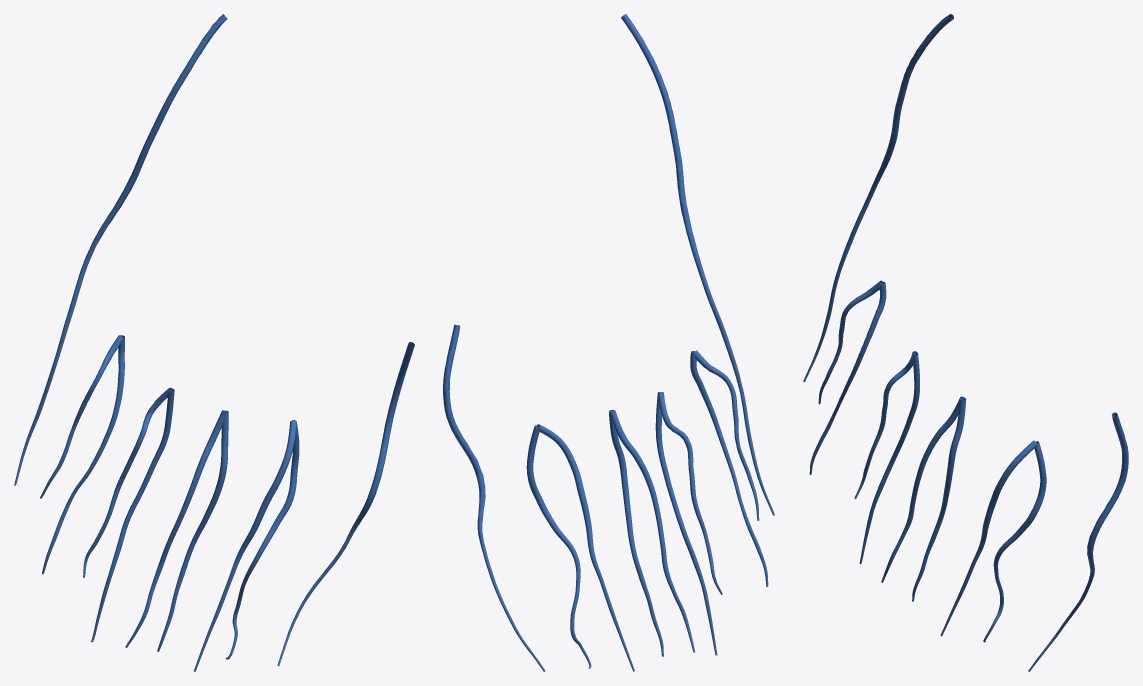
3 renders of one model, left to right at view 1: azimuth 30°, elevation 25°; view 2: azimuth 150°, elevation 25°; view 3: azimuth 330°, elevation 25°, orthographic. The views are drawn at different scales.
Parts seen in each view (by area): view 1: 右侧趾足底静脉; view 2: 右侧趾足底静脉; view 3: 右侧趾足底静脉.
Part boxes in pixels (x1=…): 右侧趾足底静脉: x1=14, y1=14, x2=414, y2=671; 右侧趾足底静脉: x1=443, y1=14, x2=774, y2=671; 右侧趾足底静脉: x1=803, y1=14, x2=1128, y2=671.
Bounding box in the file's own units: 0.1222 × 0.2179 × 0.0235.
